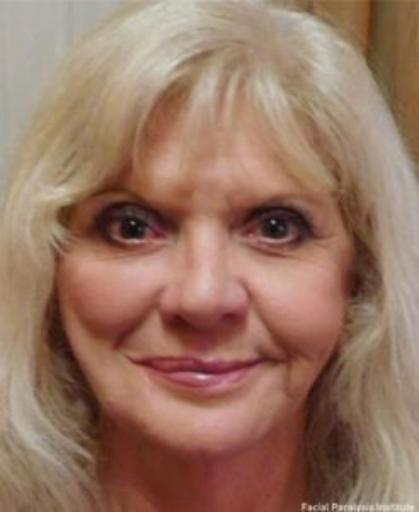left_eye: (234, 212, 315, 250)
left_lip_corner: (255, 345, 282, 378)
right_eye: (84, 212, 171, 251)
right_lip_corner: (122, 345, 145, 376)
